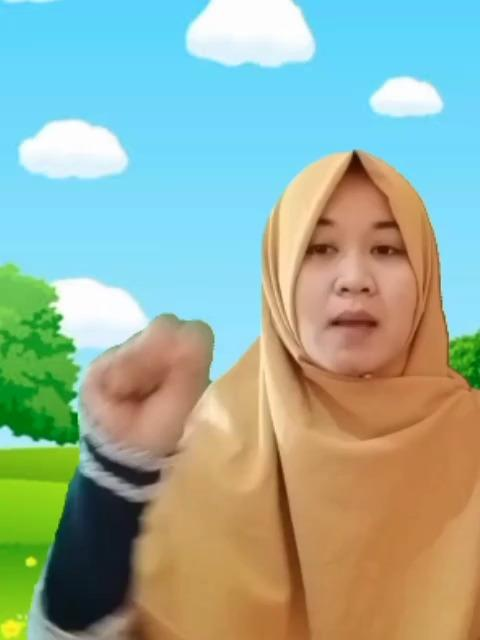S: (74, 308, 216, 454)
